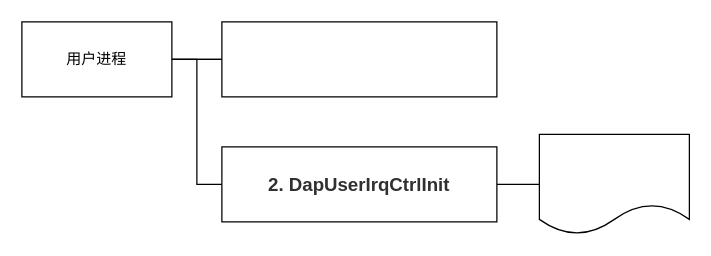
Image size: 711x256. Some labels were removed from this diagram. Here are the shapes that lost their labels. From the top down, the box of each, then its label:
(221, 21, 497, 97): 1. DhfOsalNotifyInterInit
(538, 133, 689, 234): 将g_userIrqCtrl指向 g_sp804Timer
